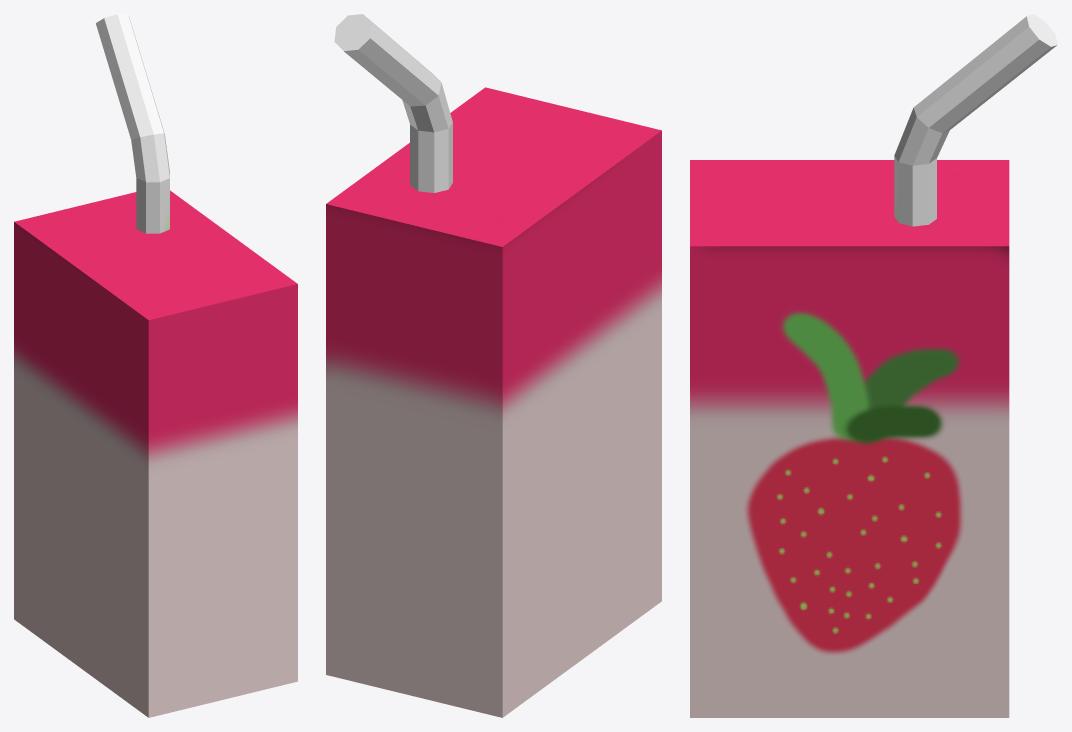
The model's file is caixa-suco.fbx.
3 renders of one model, left to right at view 1: azimuth 30°, elevation 25°; view 2: azimuth 150°, elevation 25°; view 3: azimuth 270°, elevation 25°, orthographic. The views are drawn at different scales.
Visible parts, largest first — view 1: Cube; view 2: Cube; view 3: Cube.
Boxes of the visible parts, x1,y1,x2,y2 form: Cube: (14,14,297,717); Cube: (326,14,661,717); Cube: (690,14,1057,717).
Size of the model in its own units: 128 by 470 by 230.
1 material, 1 textured.
